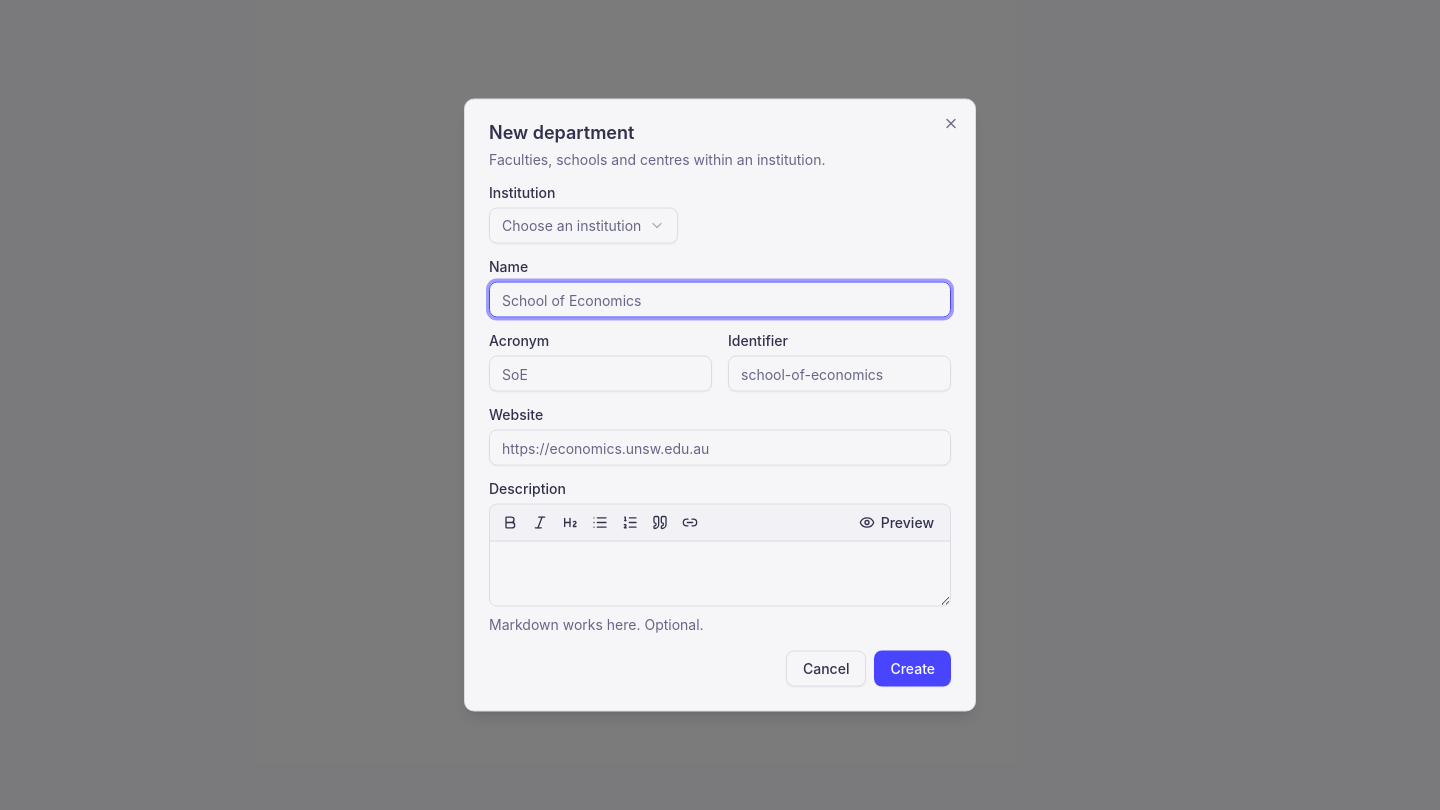
Test: al crear › sugiere el identificador a partir del nombre
This screenshot has width=1440, height=810.
Type "Escuela de Economia" into the field labelled "Name". click: (720, 300)
box: [489,282,951,318]
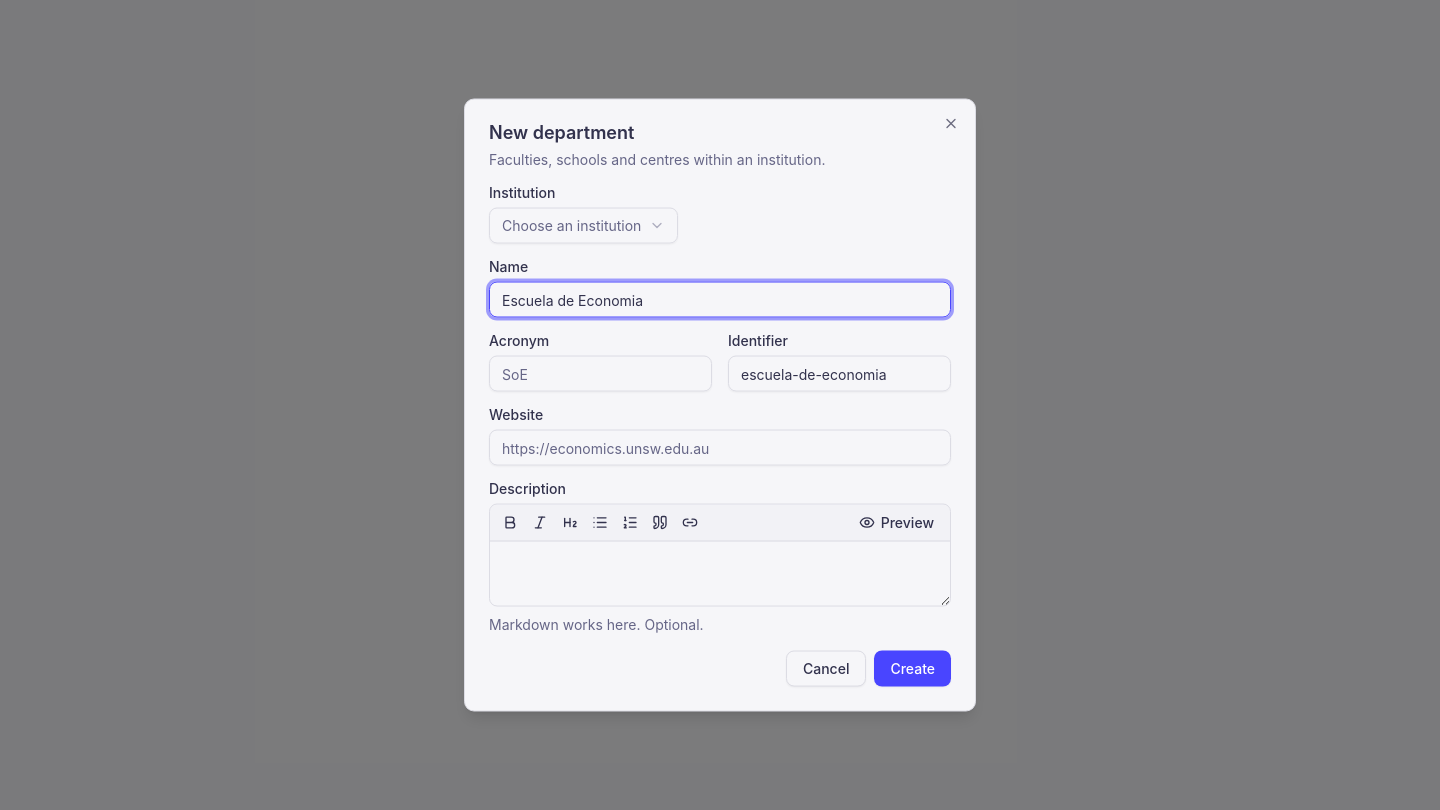
Result: the field labelled "Identifier" holds "escuela-de-economia" at [728,356,951,392]
